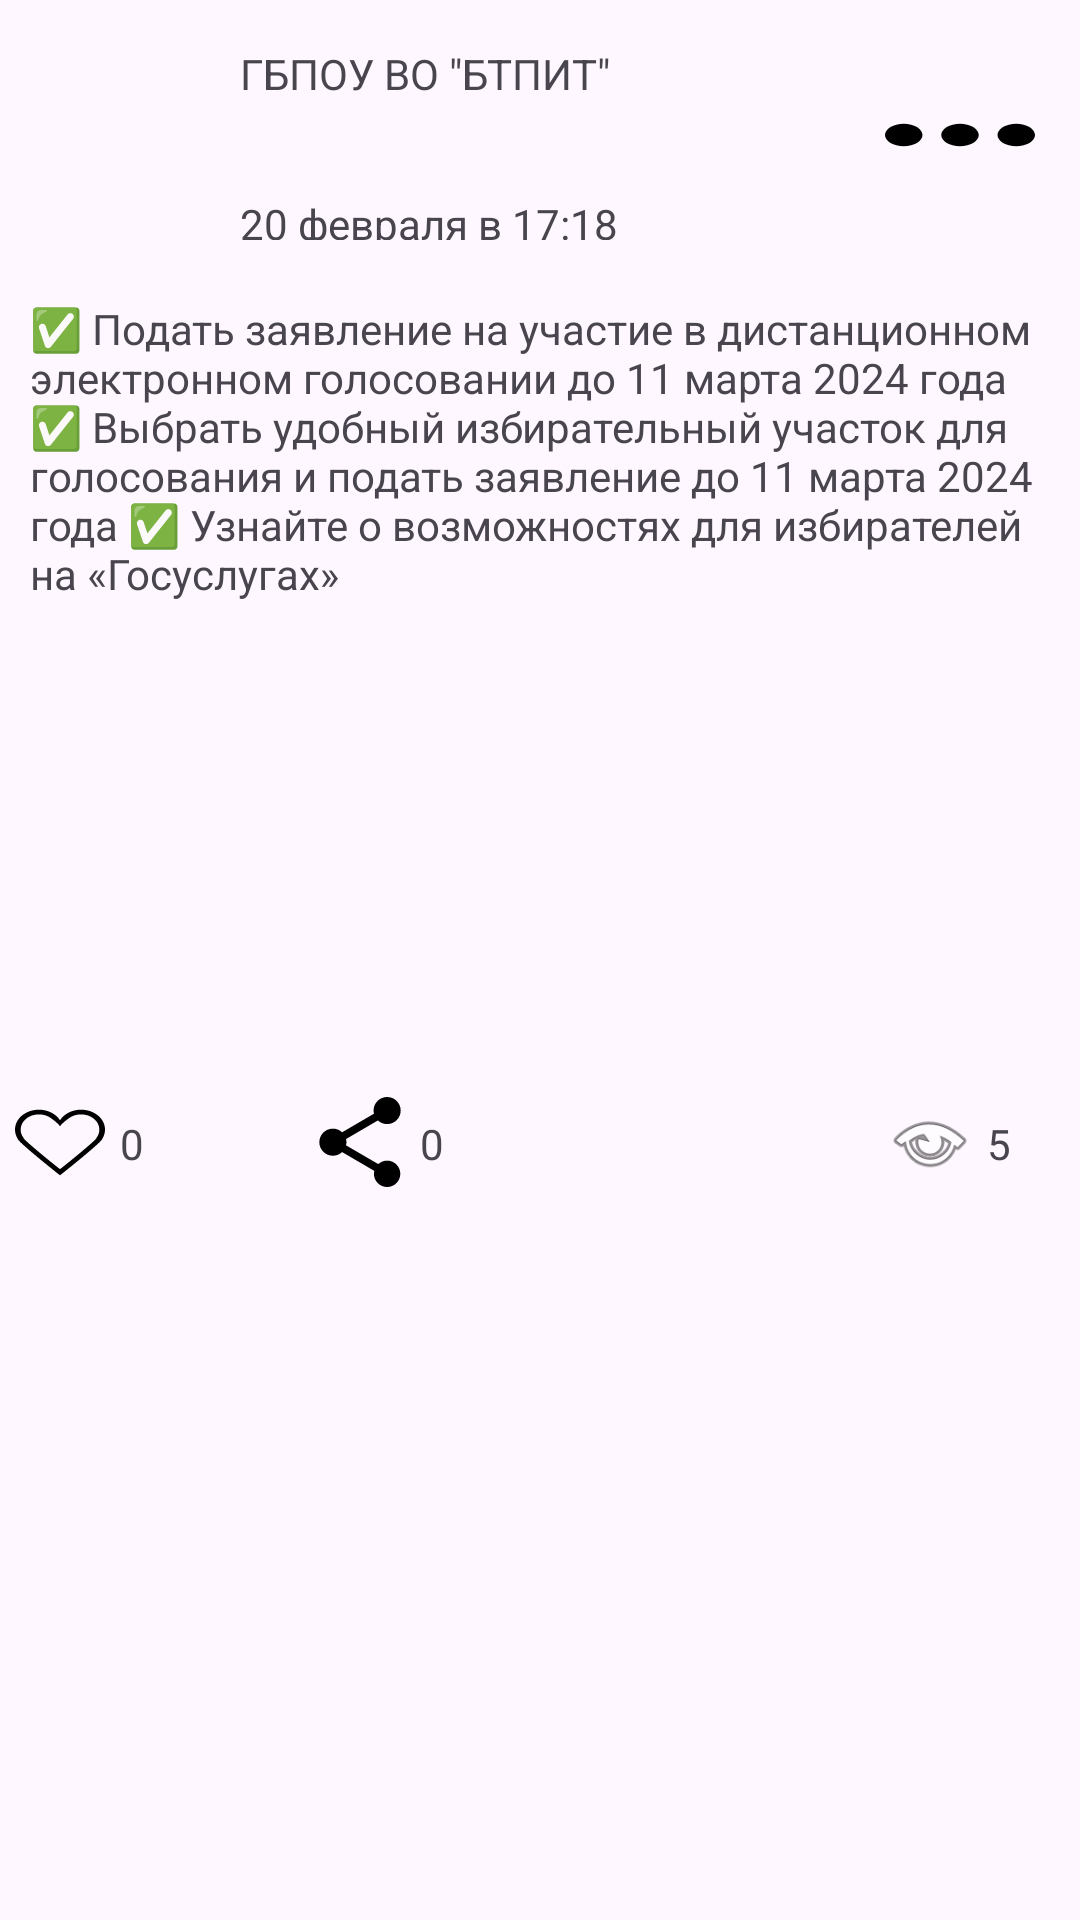

Icons on this 1080w x 1920h Android screen, each with its box as bbox=(x1, y1, x2, y2):
likes: bbox=(15, 1109, 105, 1175)
repost: bbox=(319, 1097, 401, 1187)
view: bbox=(893, 1121, 967, 1167)
